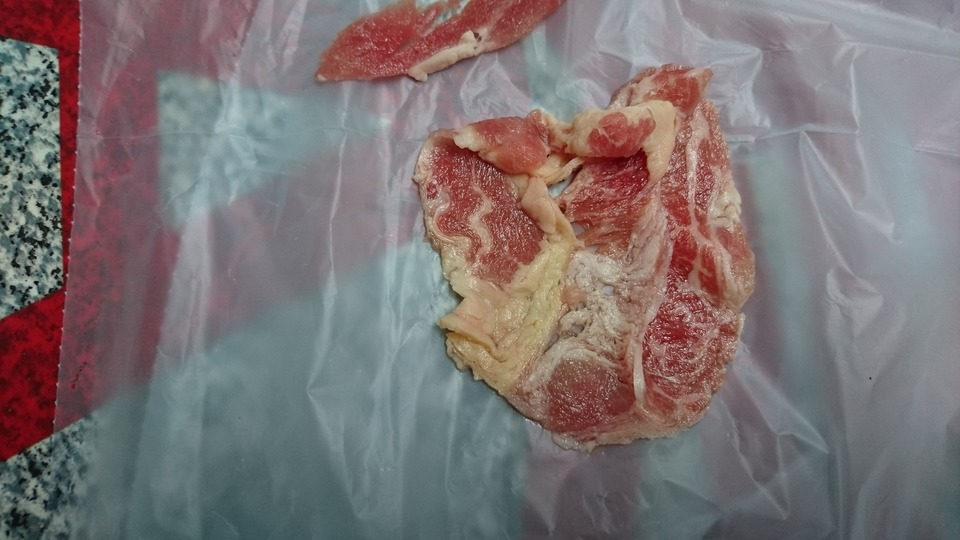restructured meat: (412, 108, 753, 441)
